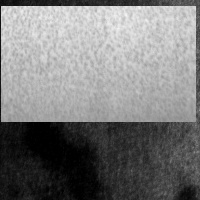patches: (22, 109, 101, 196)
pitted_surface: (1, 6, 196, 122)
